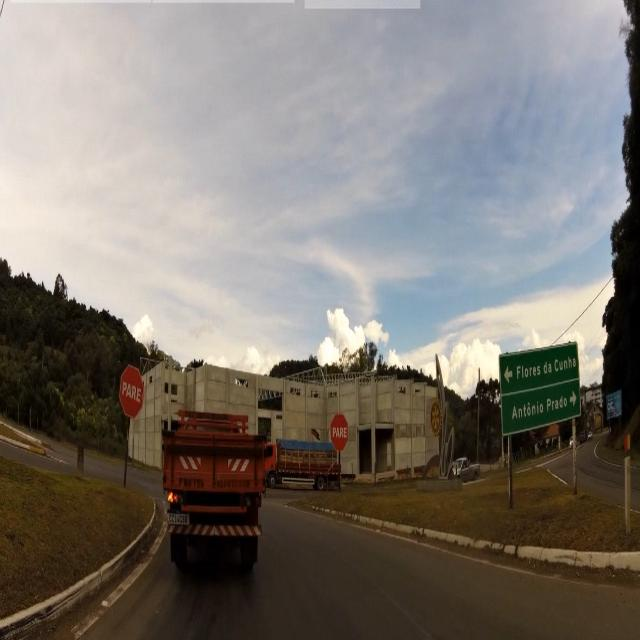R-1: (120, 364, 147, 425), (327, 410, 354, 453)
